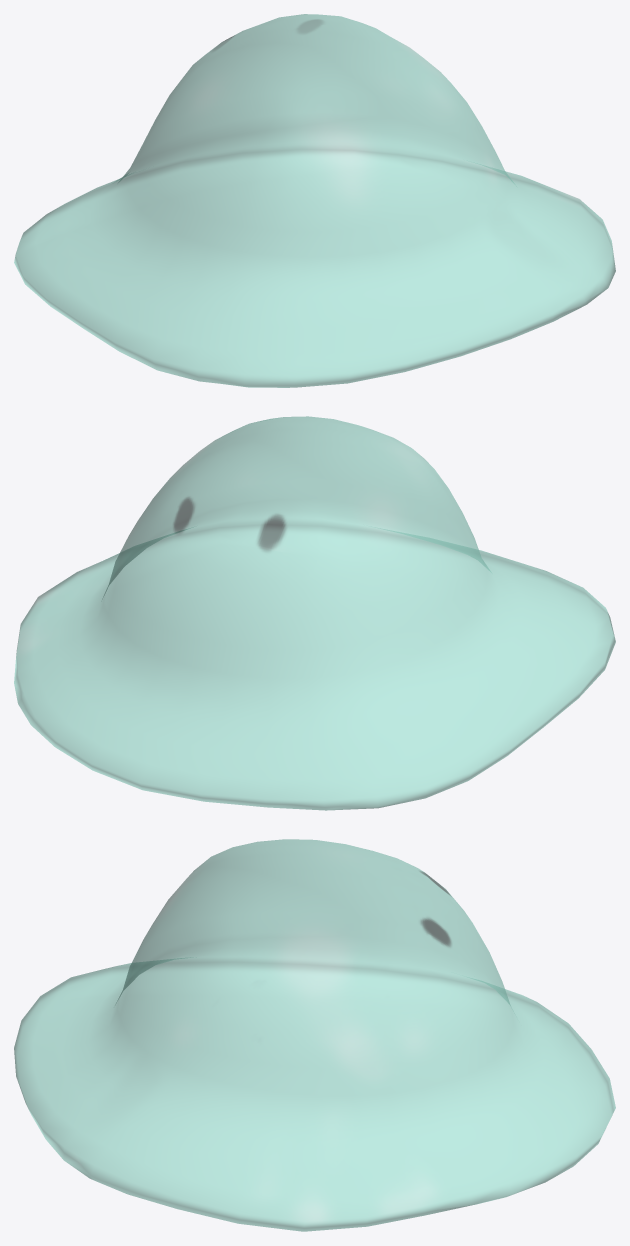
File: Slime_Attack_HeighPoly.fbx
3 renders of one model, top to bottom at view 1: azimuth 30°, elevation 25°; view 2: azimuth 150°, elevation 25°; view 3: azimuth 270°, elevation 25°, orthographic. The views are drawn at different scales.
Parts seen in each view (by area): view 1: SlimeMesh; view 2: SlimeMesh; view 3: SlimeMesh.
Part boxes in pixels (x1,y1,x2,y2): SlimeMesh: (14, 14, 615, 387); SlimeMesh: (14, 416, 615, 810); SlimeMesh: (14, 839, 615, 1231).
Size of the model in its own units: 12.57 by 6.03 by 12.52.
Materials: 1 (1 with a texture image).
